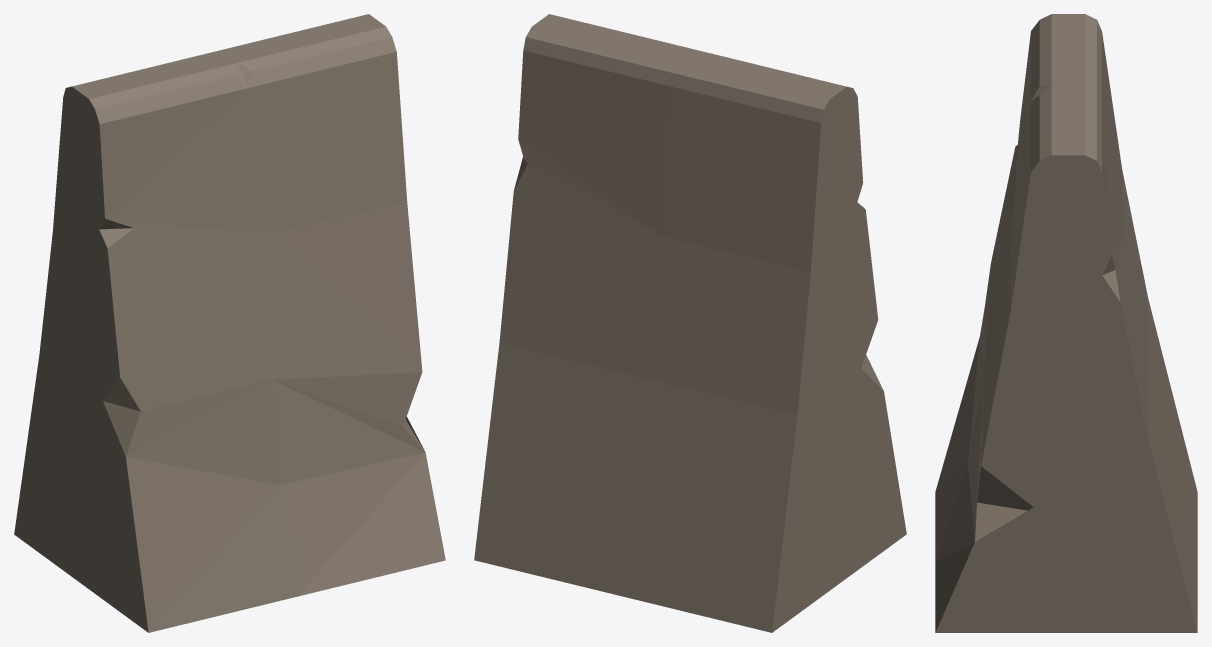
File: SM_Bld_Stone_Wall_Large_01.glb
3 views of the same model, side by side, from view 1: azimuth 30°, elevation 25°; view 2: azimuth 150°, elevation 25°; view 3: azimuth 270°, elevation 25° (orthographic). The views are drawn at different scales.
Parts seen in each view (by area): view 1: SM_Bld_Stone_Wall_Large_01_00; view 2: SM_Bld_Stone_Wall_Large_01_00; view 3: SM_Bld_Stone_Wall_Large_01_00.
Part boxes in pixels (bbox=[...]): SM_Bld_Stone_Wall_Large_01_00: bbox=[14, 14, 445, 632]; SM_Bld_Stone_Wall_Large_01_00: bbox=[474, 14, 906, 632]; SM_Bld_Stone_Wall_Large_01_00: bbox=[935, 14, 1197, 632].
Size of the model in its own units: 5 by 7.88 by 3.92.
1 material, 1 textured.
